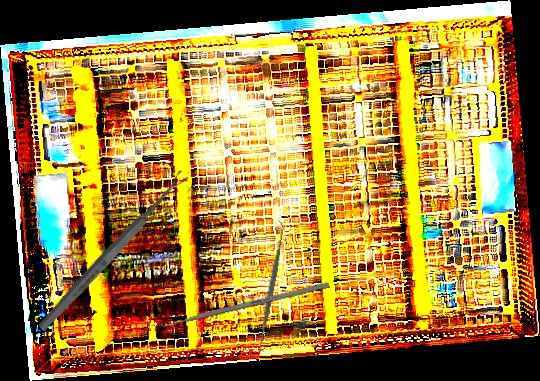Pusher: (148, 281, 330, 333)
Spatula Surgical: (251, 219, 292, 353)
Surgical Spoon: (35, 169, 191, 334)
